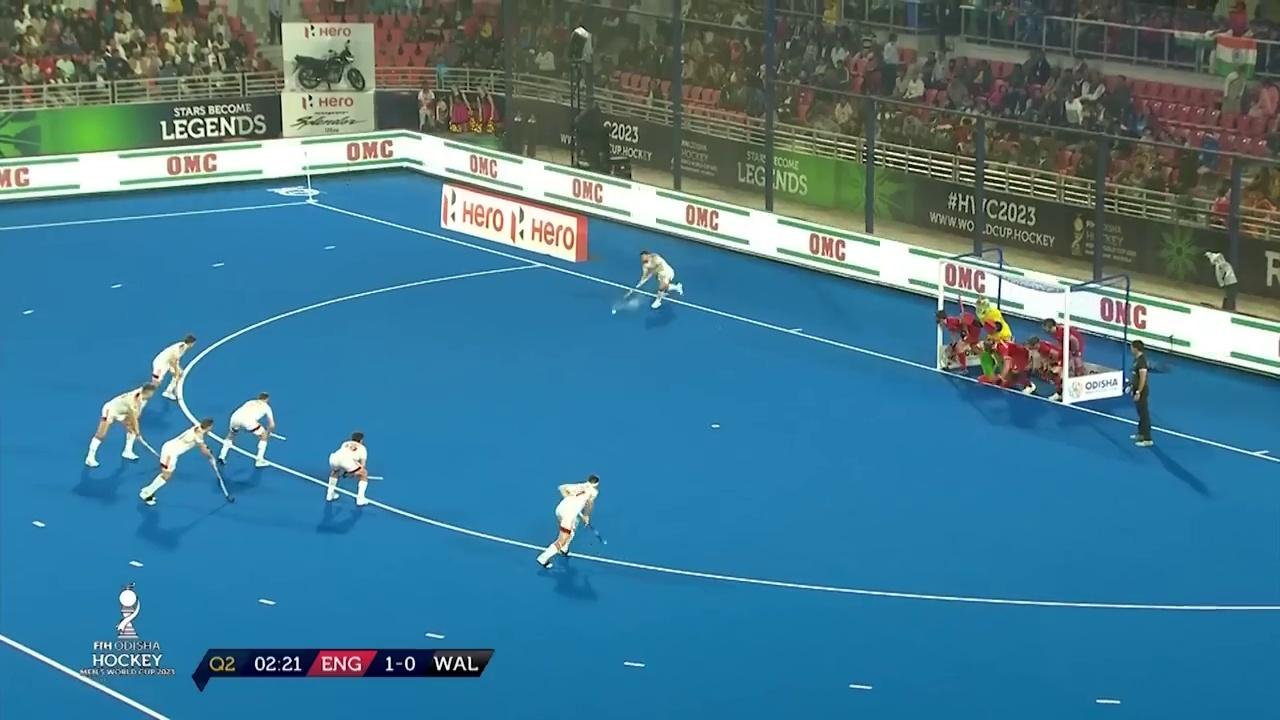ball: (599, 301, 630, 324)
